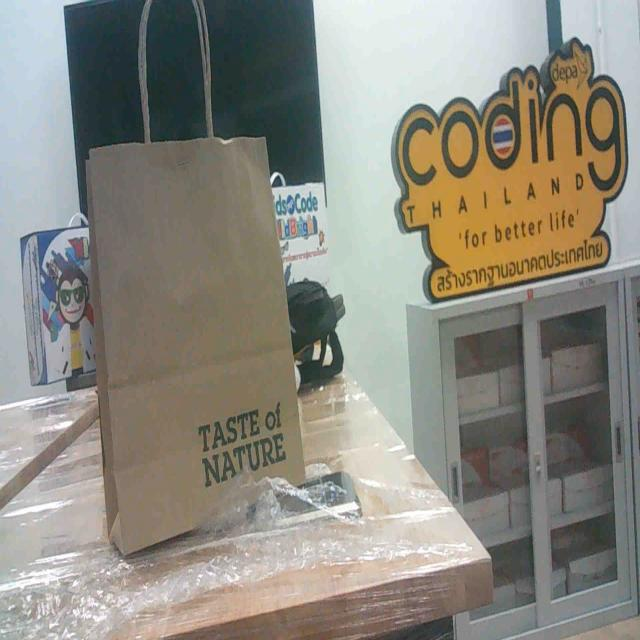bag: (72, 115, 323, 539)
